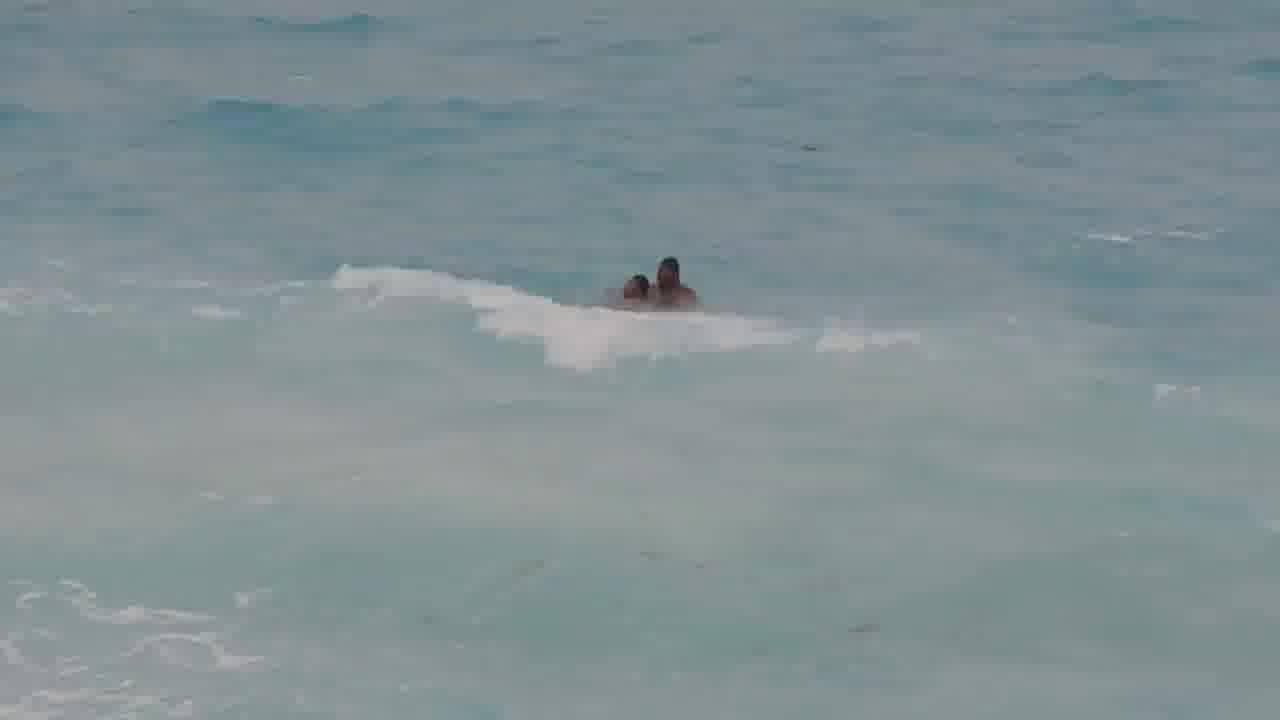swimmer: (651, 238, 694, 301), (618, 267, 650, 303)
